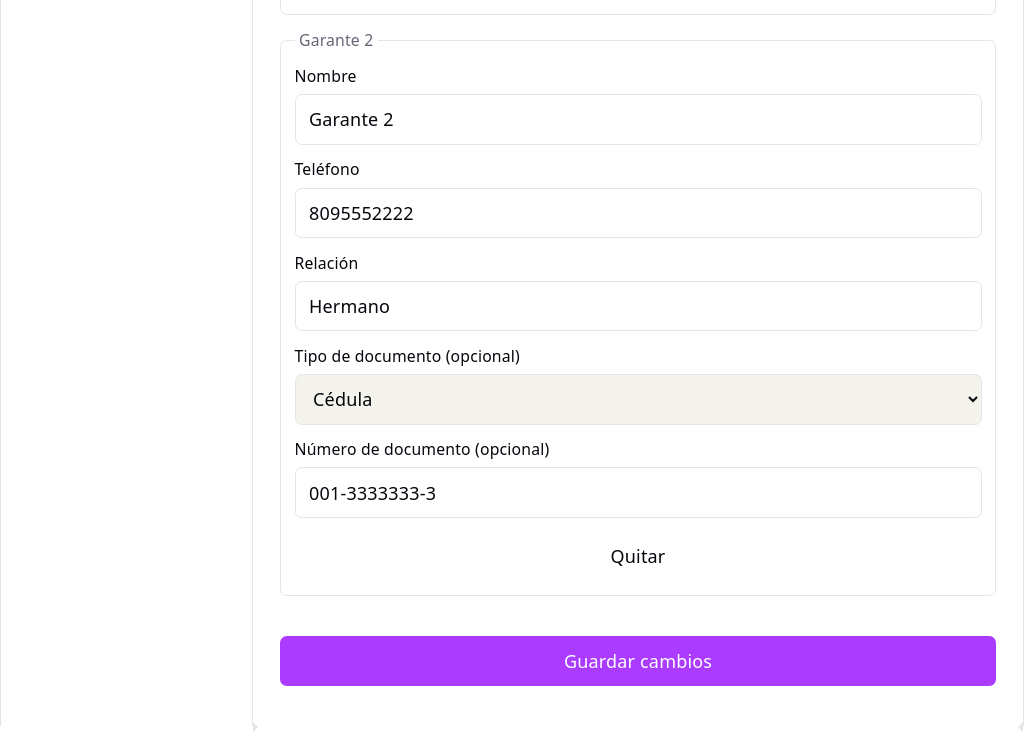
Test: CBF-215 errores de documento en el campo › PATCH /clients/:id/contacts/:id de un garante pone el error en su document
The image size is (1024, 732).
(page scrolled)
Replace the text in the field labelled "Número de documento (opcional)" with "ZZ1" at (638, 493), box x1=294 y1=468 x2=982 y2=518
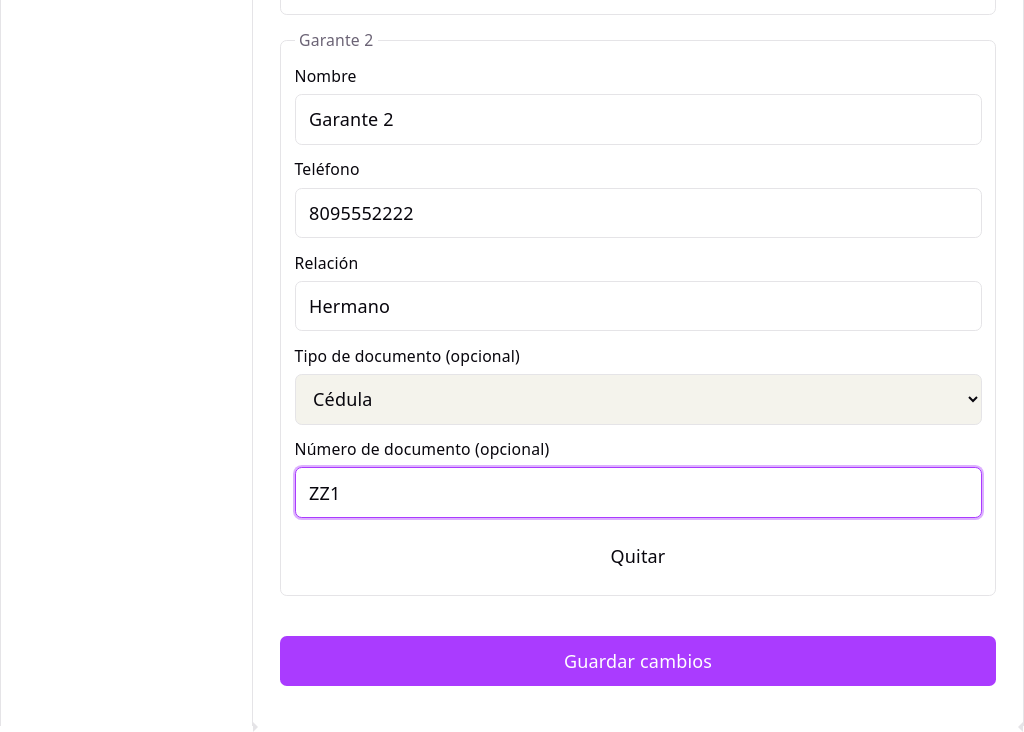
Select "Pasaporte" in the dropdown labelled "Tipo de documento (opcional)" at (638, 399), box x1=294 y1=374 x2=982 y2=425
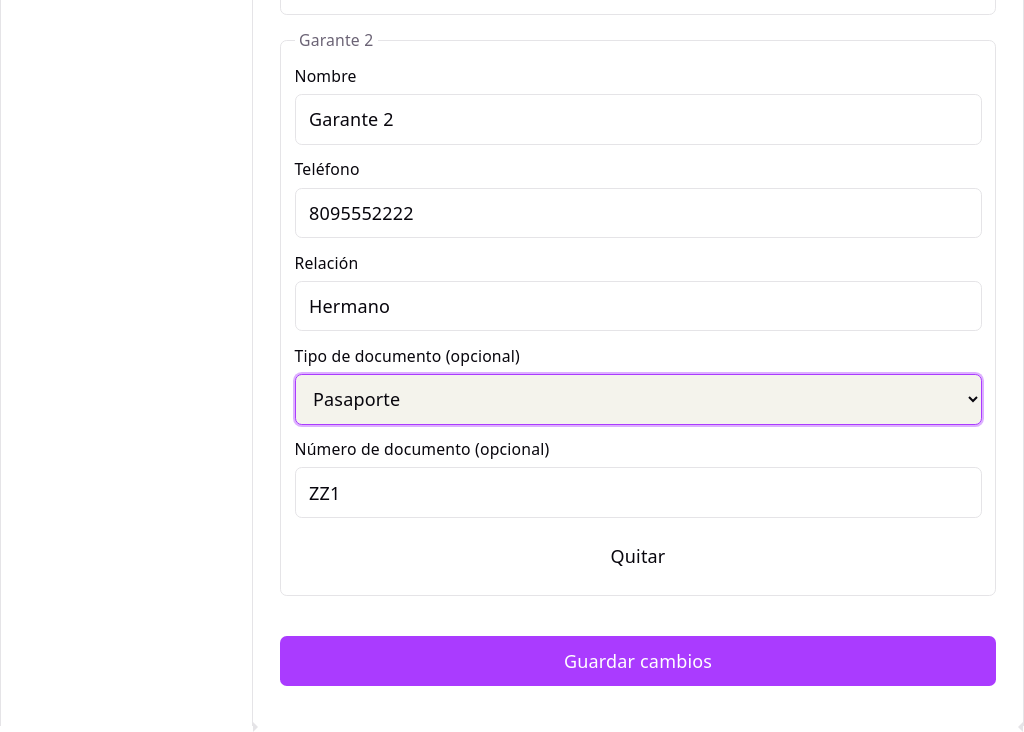
Click the button "Guardar cambios" at (638, 661), box x1=280 y1=636 x2=996 y2=686
(page scrolled)
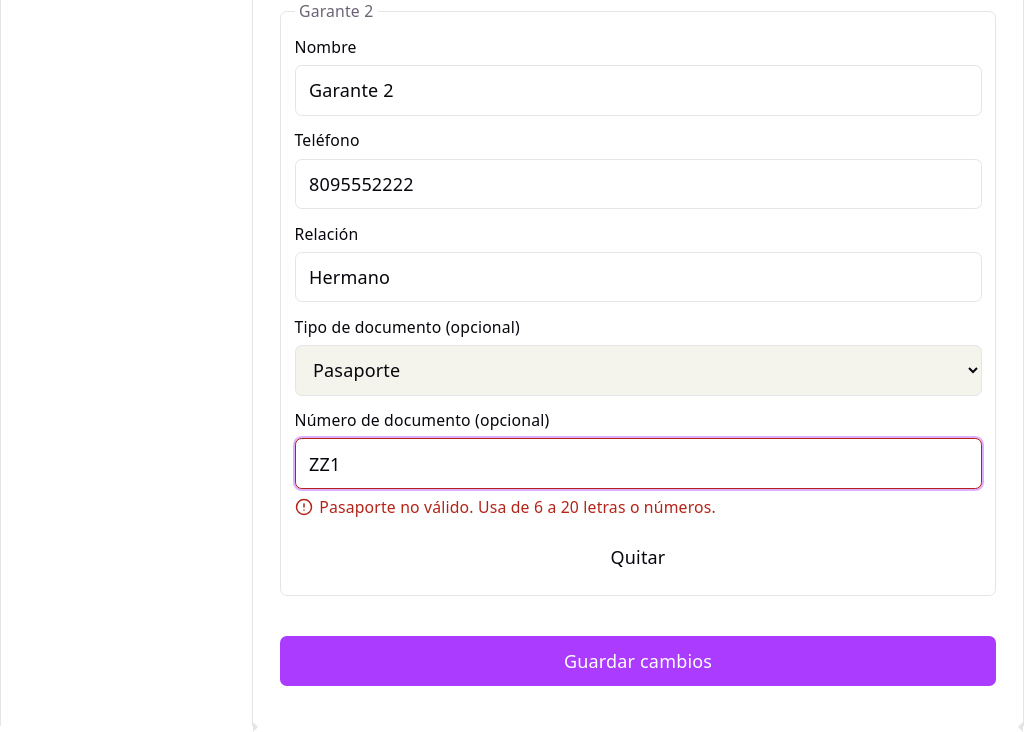
Now the message with id "contacts" reads "Pasaporte no válido. Usa de 6 a 20 letras o números.", box x1=319 y1=496 x2=716 y2=518
